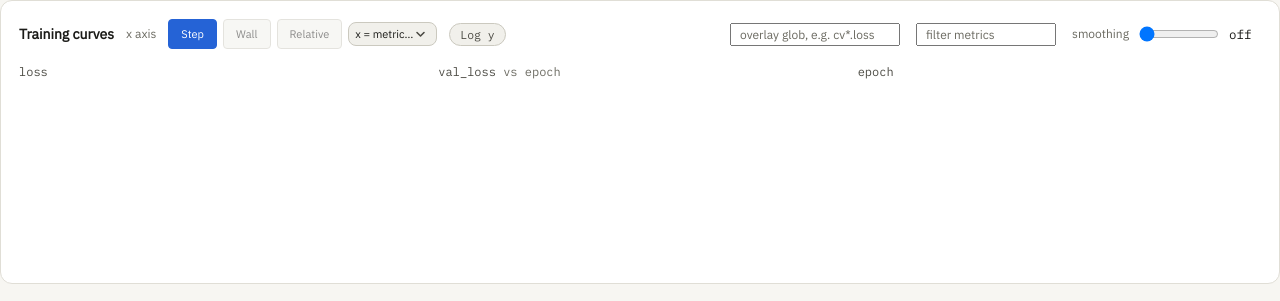
Scenario: TrainingCurves x axis control › Step returns a picked metric to each chart's declared step metric
Check: the text "vs epoch" is shown, box [496, 64, 561, 79]
Select "x = loss" in the dropdown named "x axis metric" at point(393, 34), box [348, 22, 437, 46]
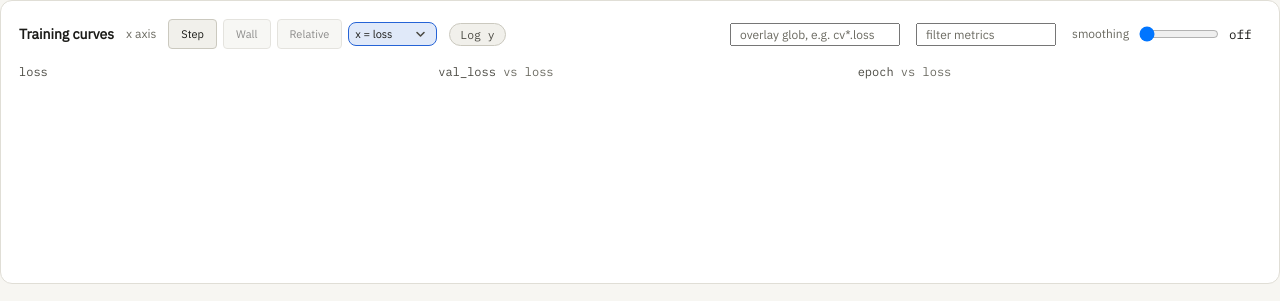
Check: the text "vs loss" is shown 2 times, box [496, 64, 554, 79]; [894, 64, 951, 79]
Click the button "Step" at point(193, 34), box [168, 19, 217, 49]
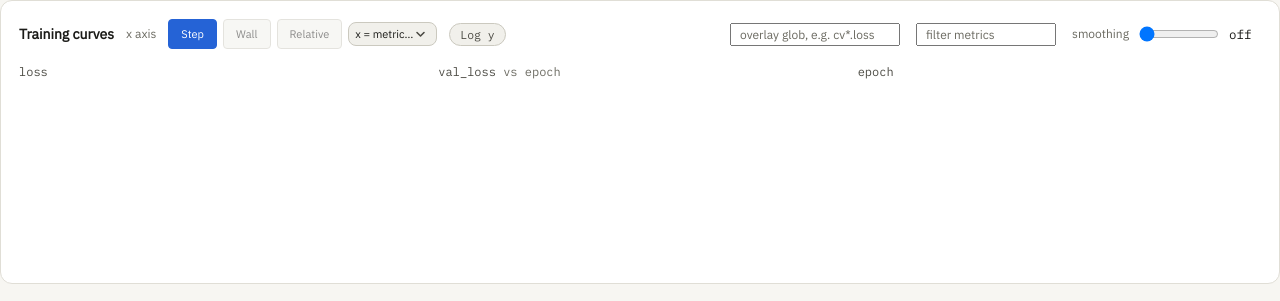
Check: the text "vs loss" is gone
Check: the text "vs epoch" is shown, box [496, 64, 561, 79]
